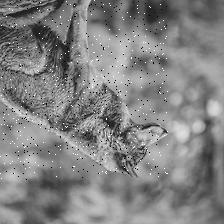WOLF: (0, 0, 168, 180)
